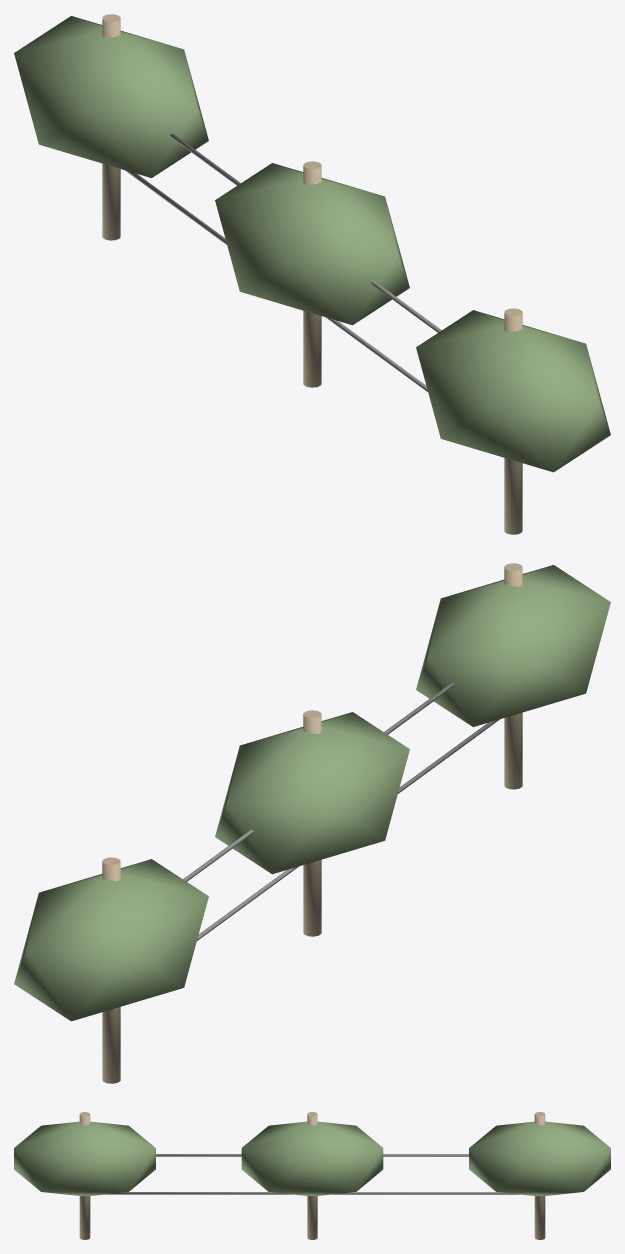
The model's file is rhine-vine_lod1.glb.
3 views of the same model, one above another, from view 1: azimuth 30°, elevation 25°; view 2: azimuth 150°, elevation 25°; view 3: azimuth 270°, elevation 25° (orthographic). The views are drawn at different scales.
Parts seen in each view (by area): view 1: RF_VineLeaves, RF_VineLeaves.002, RF_VineLeaves.001, RF_VinePost, RF_VinePost.001, RF_VinePost.002, RF_VineWire.001, RF_VineWire; view 2: RF_VineLeaves.002, RF_VineLeaves, RF_VineLeaves.001, RF_VinePost.001, RF_VinePost, RF_VinePost.002, RF_VineWire.001, RF_VineWire; view 3: RF_VineLeaves.001, RF_VineLeaves, RF_VineLeaves.002, RF_VineWire.001, RF_VinePost.001, RF_VinePost, RF_VinePost.002, RF_VineWire.
Boxes of the visible parts, box(x1,y1,x2,y2) form: RF_VineLeaves: box(416, 310, 610, 472); RF_VineLeaves.002: box(14, 16, 208, 178); RF_VineLeaves.001: box(215, 163, 409, 325); RF_VinePost: box(102, 14, 120, 240); RF_VinePost.001: box(504, 308, 522, 534); RF_VinePost.002: box(303, 161, 321, 387); RF_VineWire.001: box(125, 170, 427, 391); RF_VineWire: box(170, 133, 441, 332); RF_VineLeaves.002: box(14, 859, 208, 1021); RF_VineLeaves: box(416, 565, 610, 727); RF_VineLeaves.001: box(215, 712, 409, 874); RF_VinePost.001: box(504, 563, 522, 789); RF_VinePost: box(102, 857, 120, 1083); RF_VinePost.002: box(303, 710, 321, 936); RF_VineWire.001: box(197, 719, 499, 940); RF_VineWire: box(183, 682, 454, 881); RF_VineLeaves.001: box(241, 1121, 383, 1196); RF_VineLeaves: box(14, 1121, 155, 1196); RF_VineLeaves.002: box(469, 1121, 610, 1196); RF_VineWire.001: box(105, 1192, 519, 1194); RF_VinePost.001: box(79, 1112, 90, 1239); RF_VinePost: box(534, 1112, 545, 1239); RF_VinePost.002: box(307, 1112, 317, 1239); RF_VineWire: box(156, 1154, 468, 1156).
Size of the model in its own units: 1.25 by 1.8 by 7.87.
